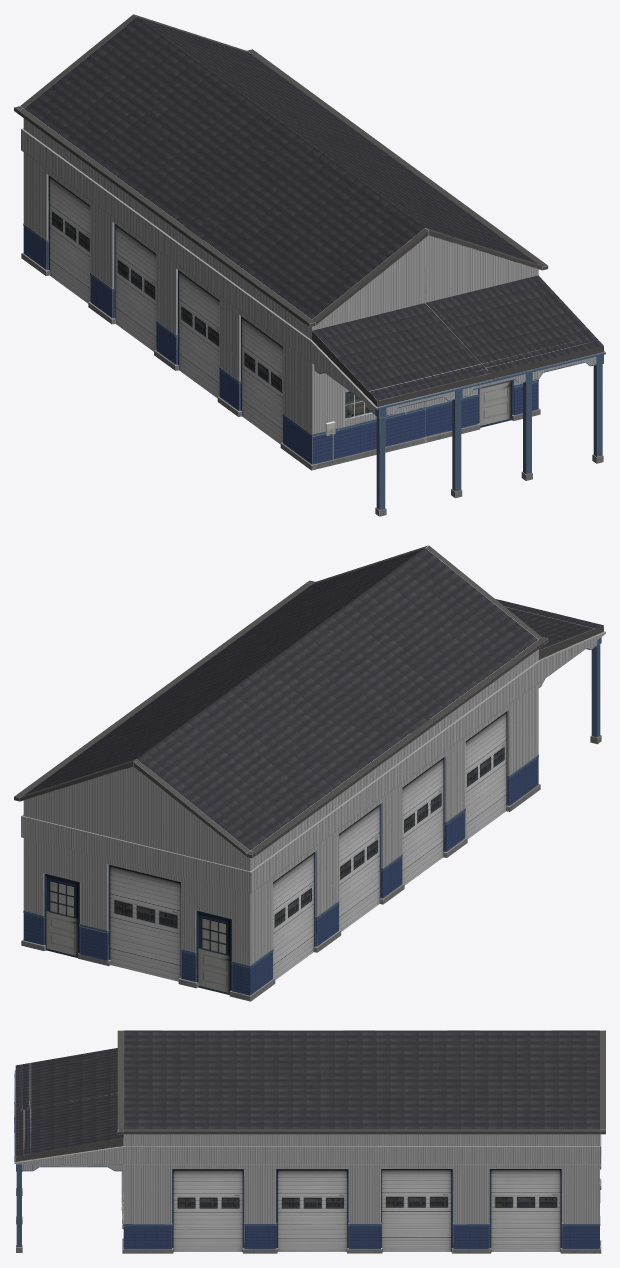
Rendered from industrial-warehouse.glb.
3 renders of one model, top to bottom at view 1: azimuth 30°, elevation 25°; view 2: azimuth 150°, elevation 25°; view 3: azimuth 270°, elevation 25°, orthographic. The views are drawn at different scales.
Visible parts, largest first — view 1: Cube.001; view 2: Cube.001; view 3: Cube.001.
Boxes of the visible parts, x1,y1,x2,y2 form: Cube.001: (14, 14, 605, 516); Cube.001: (14, 545, 605, 1001); Cube.001: (14, 1030, 605, 1253).
Size of the model in its own units: 2.8 by 2.4 by 7.28.
Materials: 1 (1 with a texture image).
